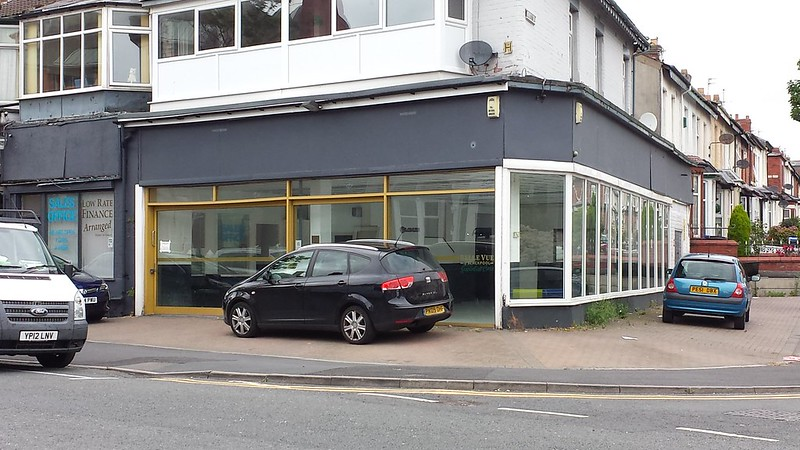number_plate: (19, 324, 67, 351), (415, 301, 468, 323), (691, 282, 725, 304)
